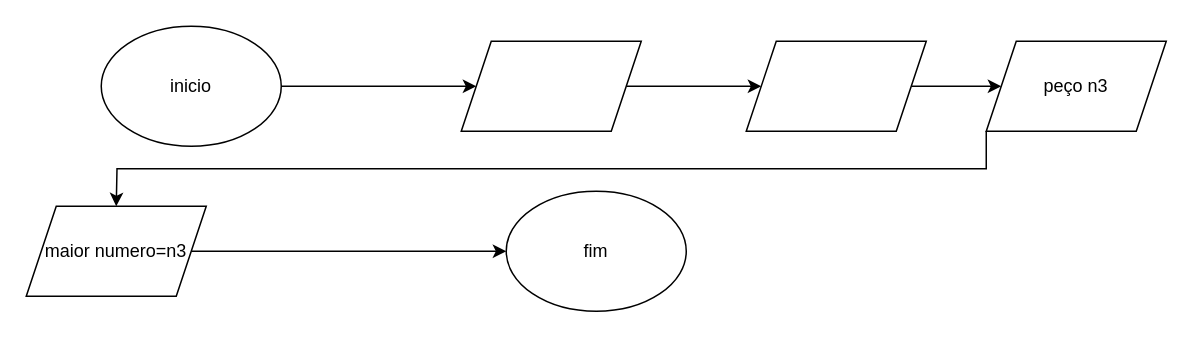
Image size: 1193x338. Some labels were removed from this diagram. Here are the shapes that lost their labels. From the top down, the centre of each, then its label:
(x=550, y=85): peço n1
(x=835, y=85): peço n2
